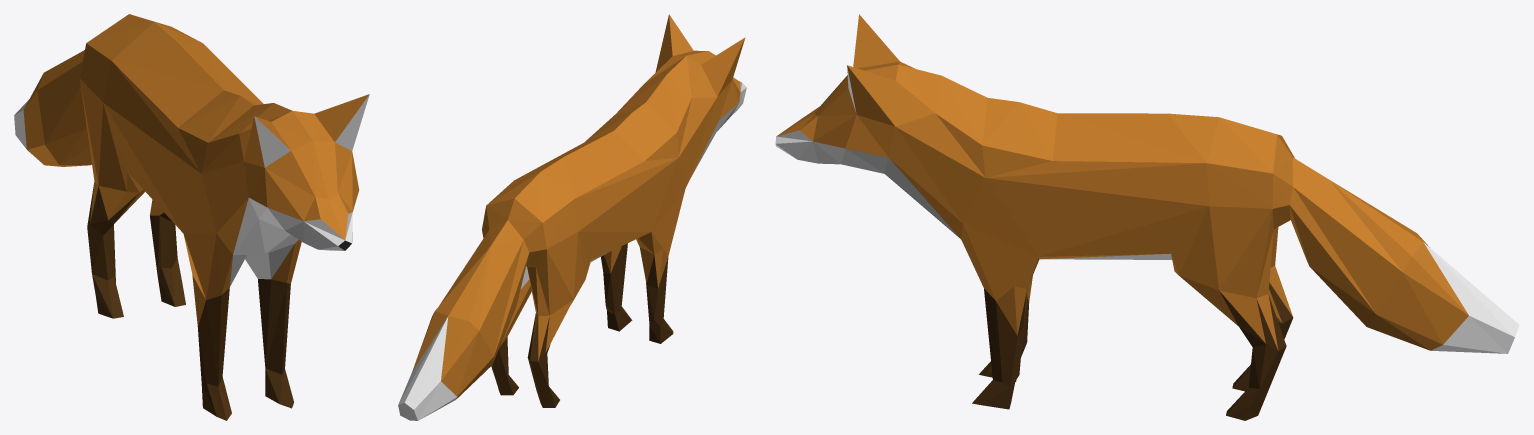
Rendered from fox.obj.
3 renders of one model, left to right at view 1: azimuth 30°, elevation 25°; view 2: azimuth 150°, elevation 25°; view 3: azimuth 270°, elevation 25°, orthographic. The views are drawn at different scales.
Parts seen in each view (by area): view 1: Cube_001; view 2: Cube_001; view 3: Cube_001.
Part boxes in pixels (x1,y1,x2,y2): Cube_001: (14,14,369,420); Cube_001: (398,14,746,420); Cube_001: (775,14,1519,420).
Size of the model in its own units: 1.1 by 2.72 by 5.3.
